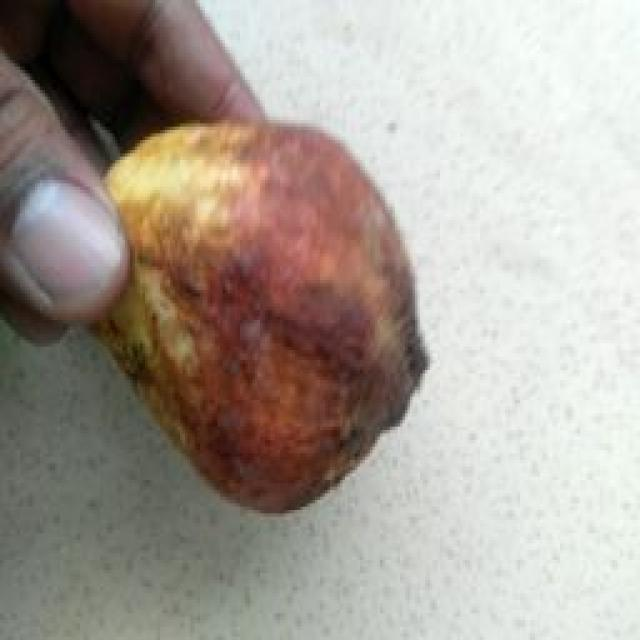Bad_Guava: (98, 122, 428, 511)
